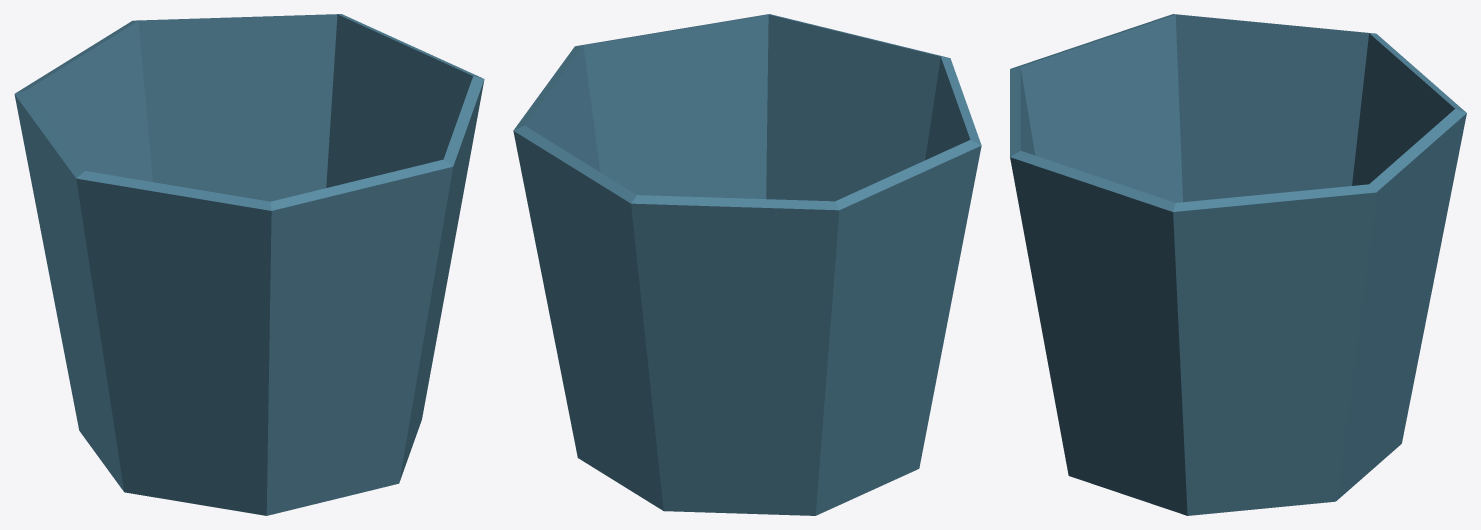
Rendered from plasticbin.glb.
The picture shows the model from 3 angles, left to right: view 1: azimuth 30°, elevation 25°; view 2: azimuth 150°, elevation 25°; view 3: azimuth 270°, elevation 25°; orthographic projection.
Visible parts, largest first — view 1: plasticbin.028; view 2: plasticbin.028; view 3: plasticbin.028.
Boxes of the visible parts, <box> form: plasticbin.028: <box>14,14,484,515</box>; plasticbin.028: <box>513,14,981,515</box>; plasticbin.028: <box>1010,14,1466,515</box>.
Size of the model in its own units: 0.3854 by 0.3039 by 0.3757.
